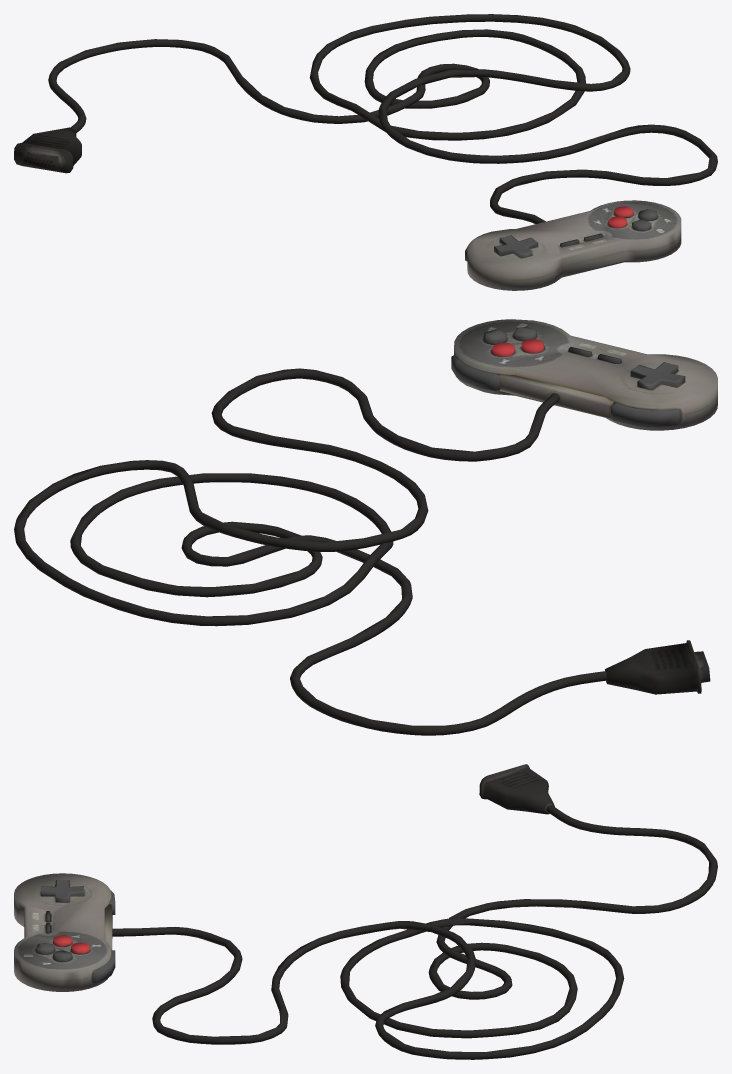
The model's file is gamepad.glb.
The picture shows the model from 3 angles, top to bottom: view 1: azimuth 30°, elevation 25°; view 2: azimuth 150°, elevation 25°; view 3: azimuth 270°, elevation 25°; orthographic projection. The views are drawn at different scales.
Parts seen in each view (by area): view 1: gamepad; view 2: gamepad; view 3: gamepad.
Boxes of the visible parts, x1,y1,x2,y2 form: gamepad: [14, 14, 717, 290]; gamepad: [14, 319, 717, 735]; gamepad: [14, 764, 717, 1059].
Bounding box in the file's own units: 0.4041 × 0.0188 × 0.4345.
Materials: 1 (1 with a texture image).
